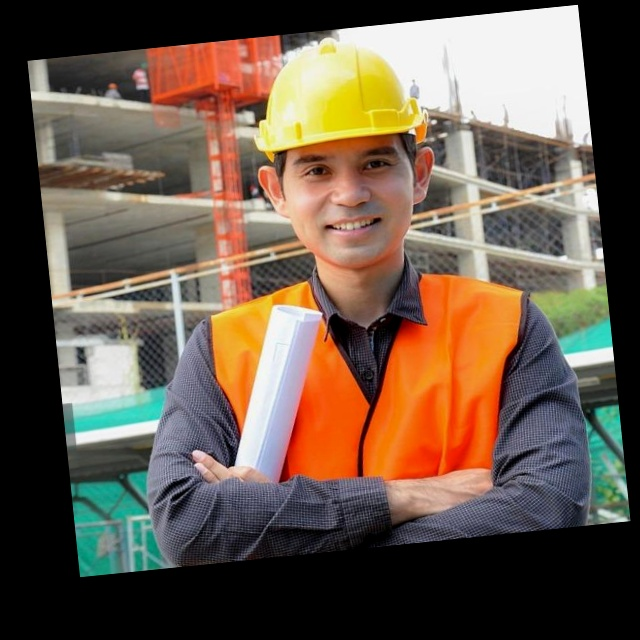Con_Casco: (243, 27, 448, 277)
Con_Chaleco: (192, 256, 551, 563)
